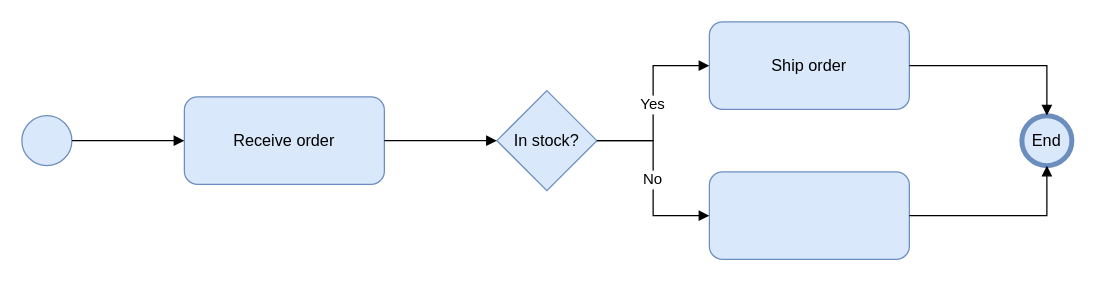
This 1096x281 diagram has some shape labels left out. Each missing label, with the centre of its shape:
Backorder: [808,215]
Start: [46,140]
